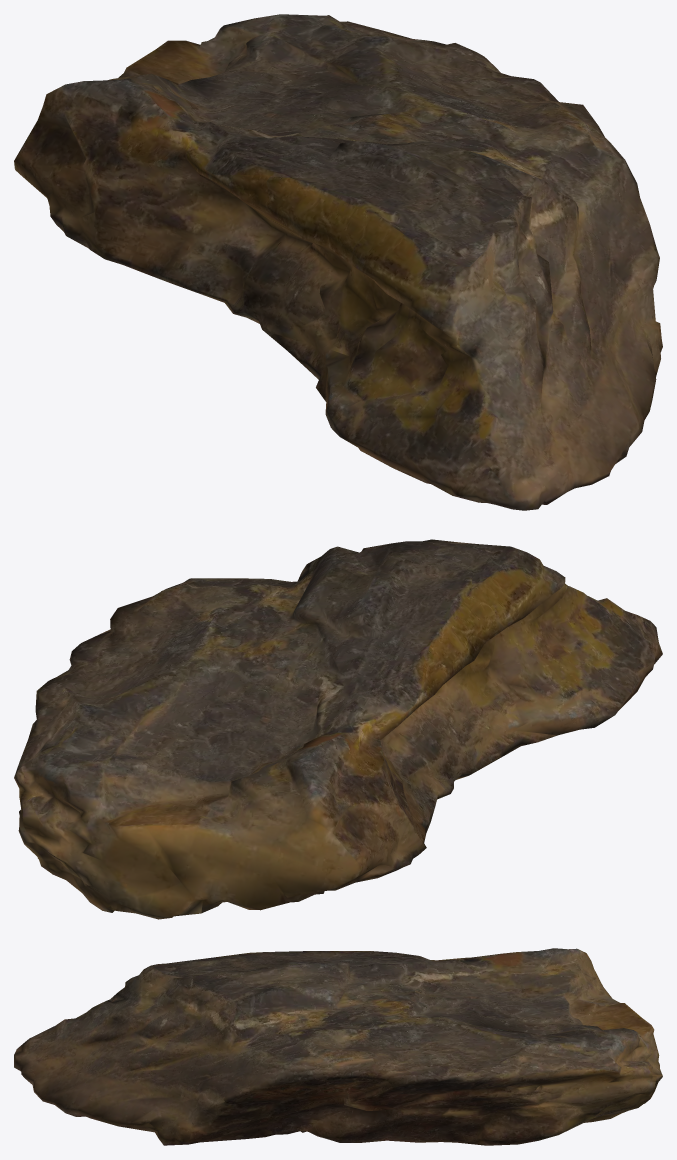
The model's file is p_rock9.glb.
3 renders of one model, top to bottom at view 1: azimuth 30°, elevation 25°; view 2: azimuth 150°, elevation 25°; view 3: azimuth 270°, elevation 25°, orthographic. The views are drawn at different scales.
Visible parts, largest first — view 1: rock_09_LOD0; view 2: rock_09_LOD0; view 3: rock_09_LOD0.
Part boxes in pixels (x1,y1,x2,y2): rock_09_LOD0: (14,14,662,510); rock_09_LOD0: (14,539,662,919); rock_09_LOD0: (14,948,662,1145).
Bounding box in the file's own units: 0.0739 × 0.0328 × 0.1446.
Materials: 1 (1 with a texture image).
